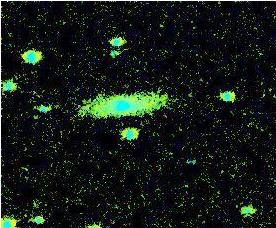star: (19, 104, 49, 134)
